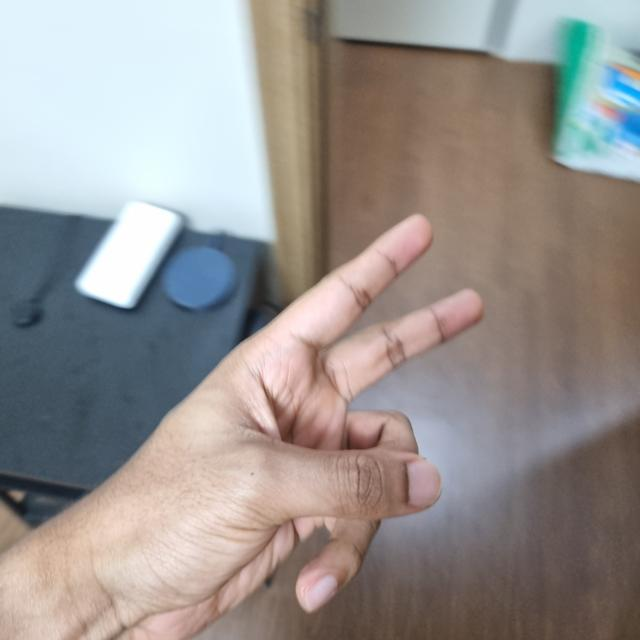Scissors: (102, 217, 481, 634)
